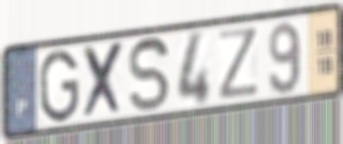4: (175, 28, 213, 109)
9: (267, 19, 303, 97)
G: (37, 48, 81, 126)
S: (127, 34, 172, 115)
X: (82, 38, 127, 123)
Z: (217, 25, 262, 103)
